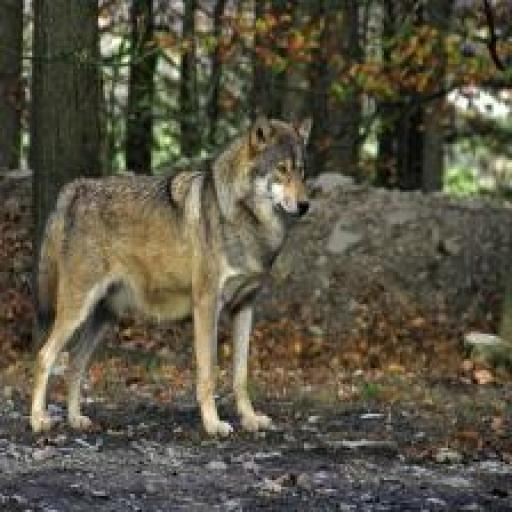wolf: (30, 110, 318, 441)
